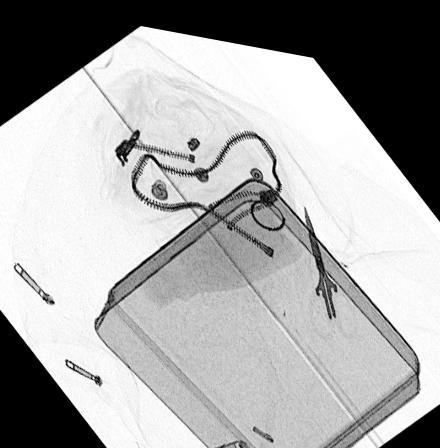Scissors: (302, 191, 361, 330)
